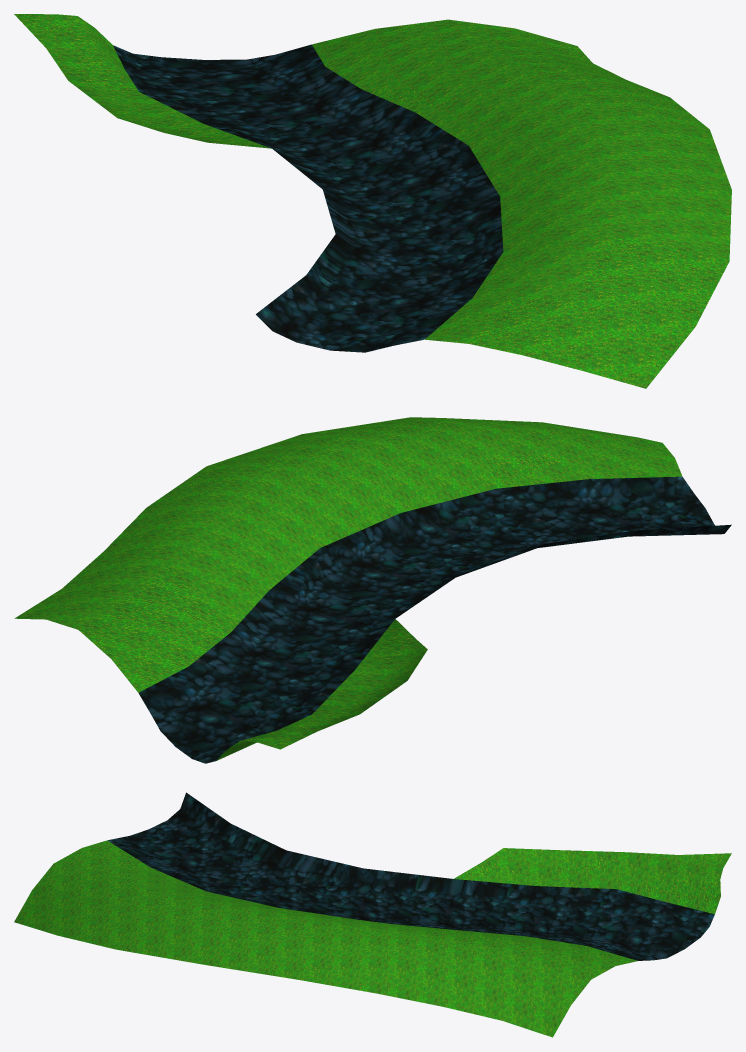
Rendered from HTOWN01_PS01.fbx.
The picture shows the model from 3 angles, top to bottom: view 1: azimuth 30°, elevation 25°; view 2: azimuth 150°, elevation 25°; view 3: azimuth 270°, elevation 25°; orthographic projection. The views are drawn at different scales.
Parts seen in each view (by area): view 1: HTOWN01_PS01; view 2: HTOWN01_PS01; view 3: HTOWN01_PS01.
Boxes of the visible parts, box(x1,y1,x2,y2) form: HTOWN01_PS01: box(14, 14, 731, 388); HTOWN01_PS01: box(14, 417, 731, 763); HTOWN01_PS01: box(14, 792, 731, 1037).
Size of the model in its own units: 347189 by 57587 by 524179.
Materials: 2 (2 with a texture image).
